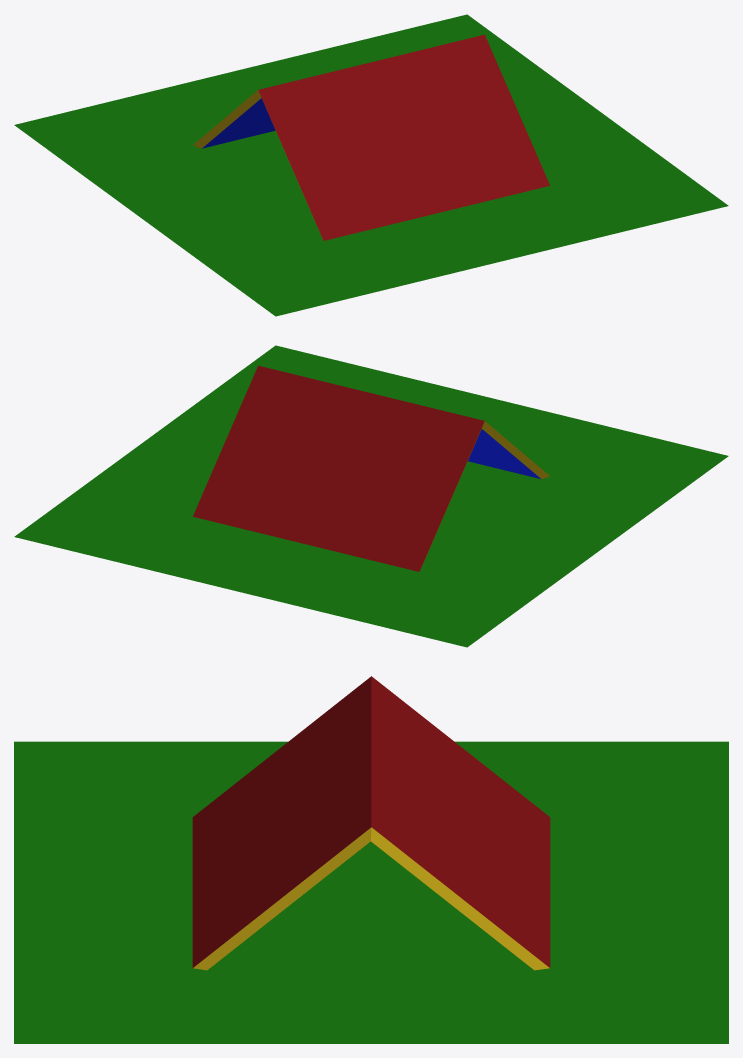
File: bridge01.obj
3 renders of one model, top to bottom at view 1: azimuth 30°, elevation 25°; view 2: azimuth 150°, elevation 25°; view 3: azimuth 270°, elevation 25°, orthographic. The views are drawn at different scales.
Parts seen in each view (by area): view 1: Plane, Plane.001; view 2: Plane, Plane.001; view 3: Plane, Plane.001.
Part boxes in pixels (bbox=[...]): Plane: bbox=[14, 14, 728, 316]; Plane.001: bbox=[193, 34, 549, 240]; Plane: bbox=[14, 345, 728, 647]; Plane.001: bbox=[193, 365, 549, 571]; Plane: bbox=[14, 741, 728, 1043]; Plane.001: bbox=[192, 676, 550, 970].
Size of the model in its own units: 40 by 9.45 by 40.
